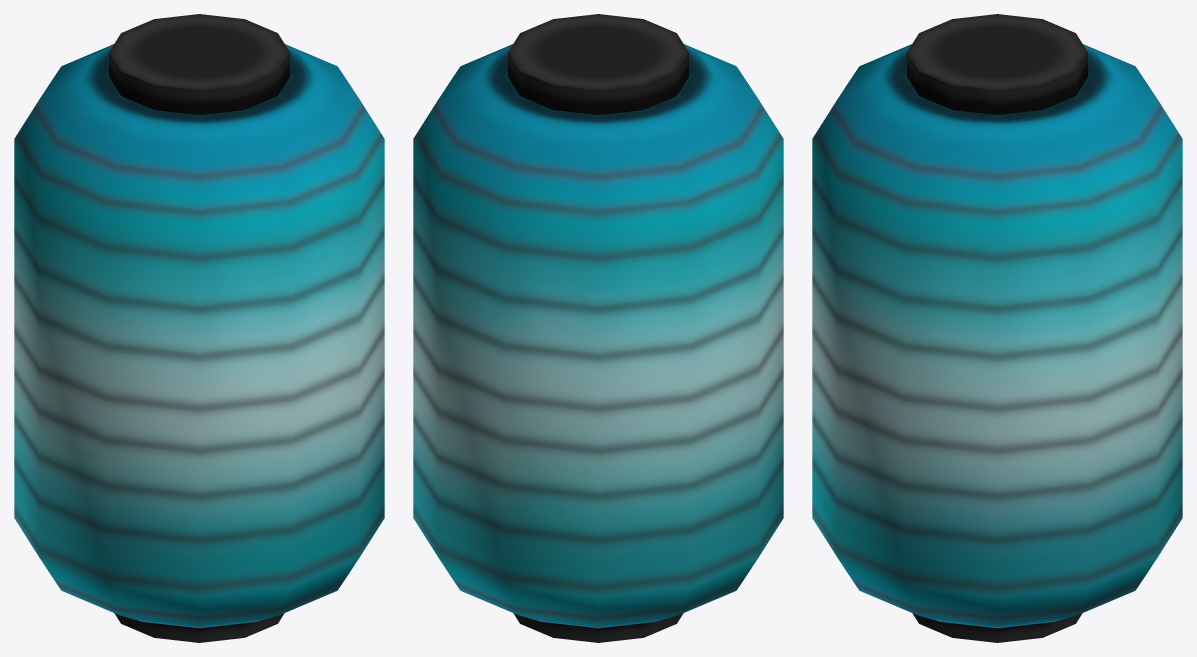
Rendered from Lantern01.FBX.
3 renders of one model, left to right at view 1: azimuth 30°, elevation 25°; view 2: azimuth 150°, elevation 25°; view 3: azimuth 270°, elevation 25°, orthographic.
Visible parts, largest first — view 1: Lantern01; view 2: Lantern01; view 3: Lantern01.
Boxes of the visible parts, x1,y1,x2,y2 form: Lantern01: (14,14,384,642); Lantern01: (413,14,783,642); Lantern01: (812,14,1182,642).
Size of the model in its own units: 0.4 by 0.6589 by 0.4.
